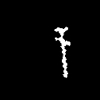double_crochet: (55, 27, 69, 76)
